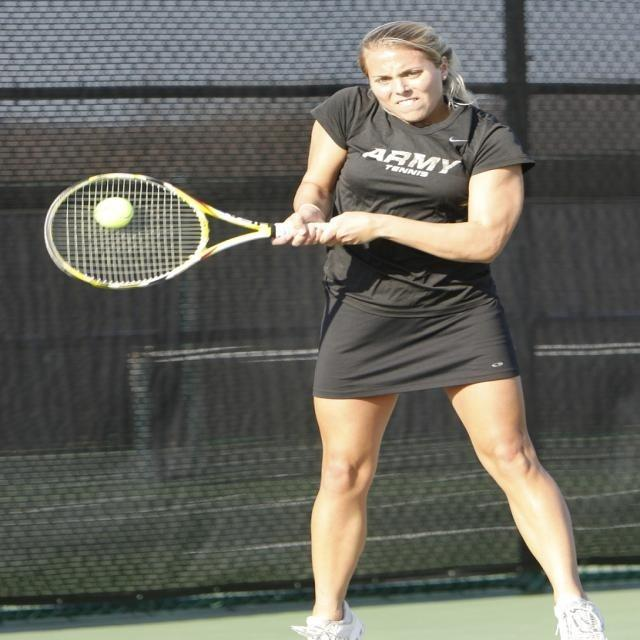ball: (93, 196, 134, 229)
